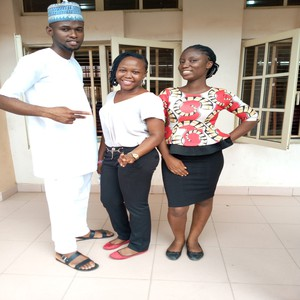Fulokoja_female_student: (155, 44, 221, 260), (102, 53, 154, 254)
Fulokoja_male_student: (16, 8, 106, 264)
